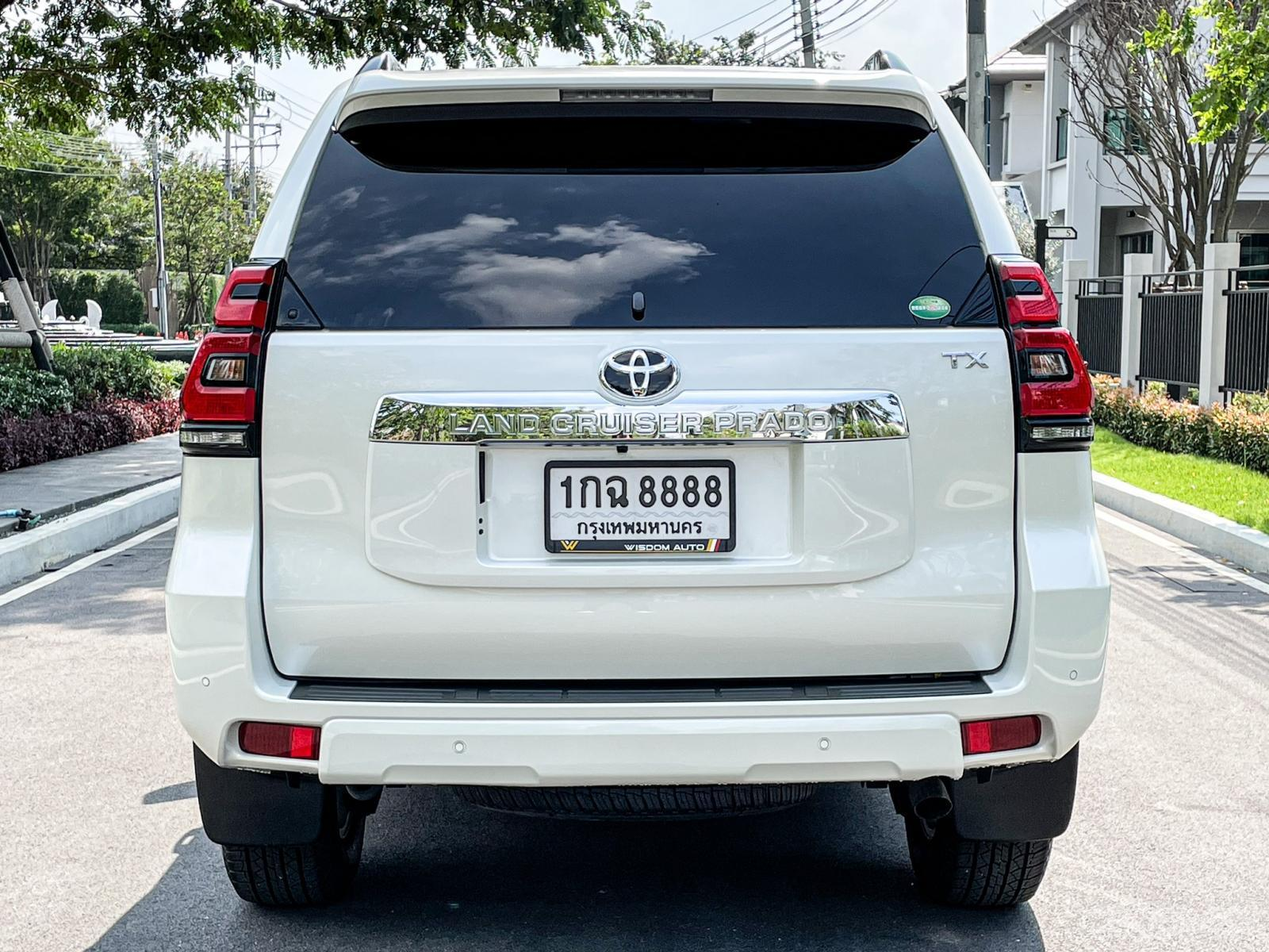license-plate: (538, 457, 739, 555)
